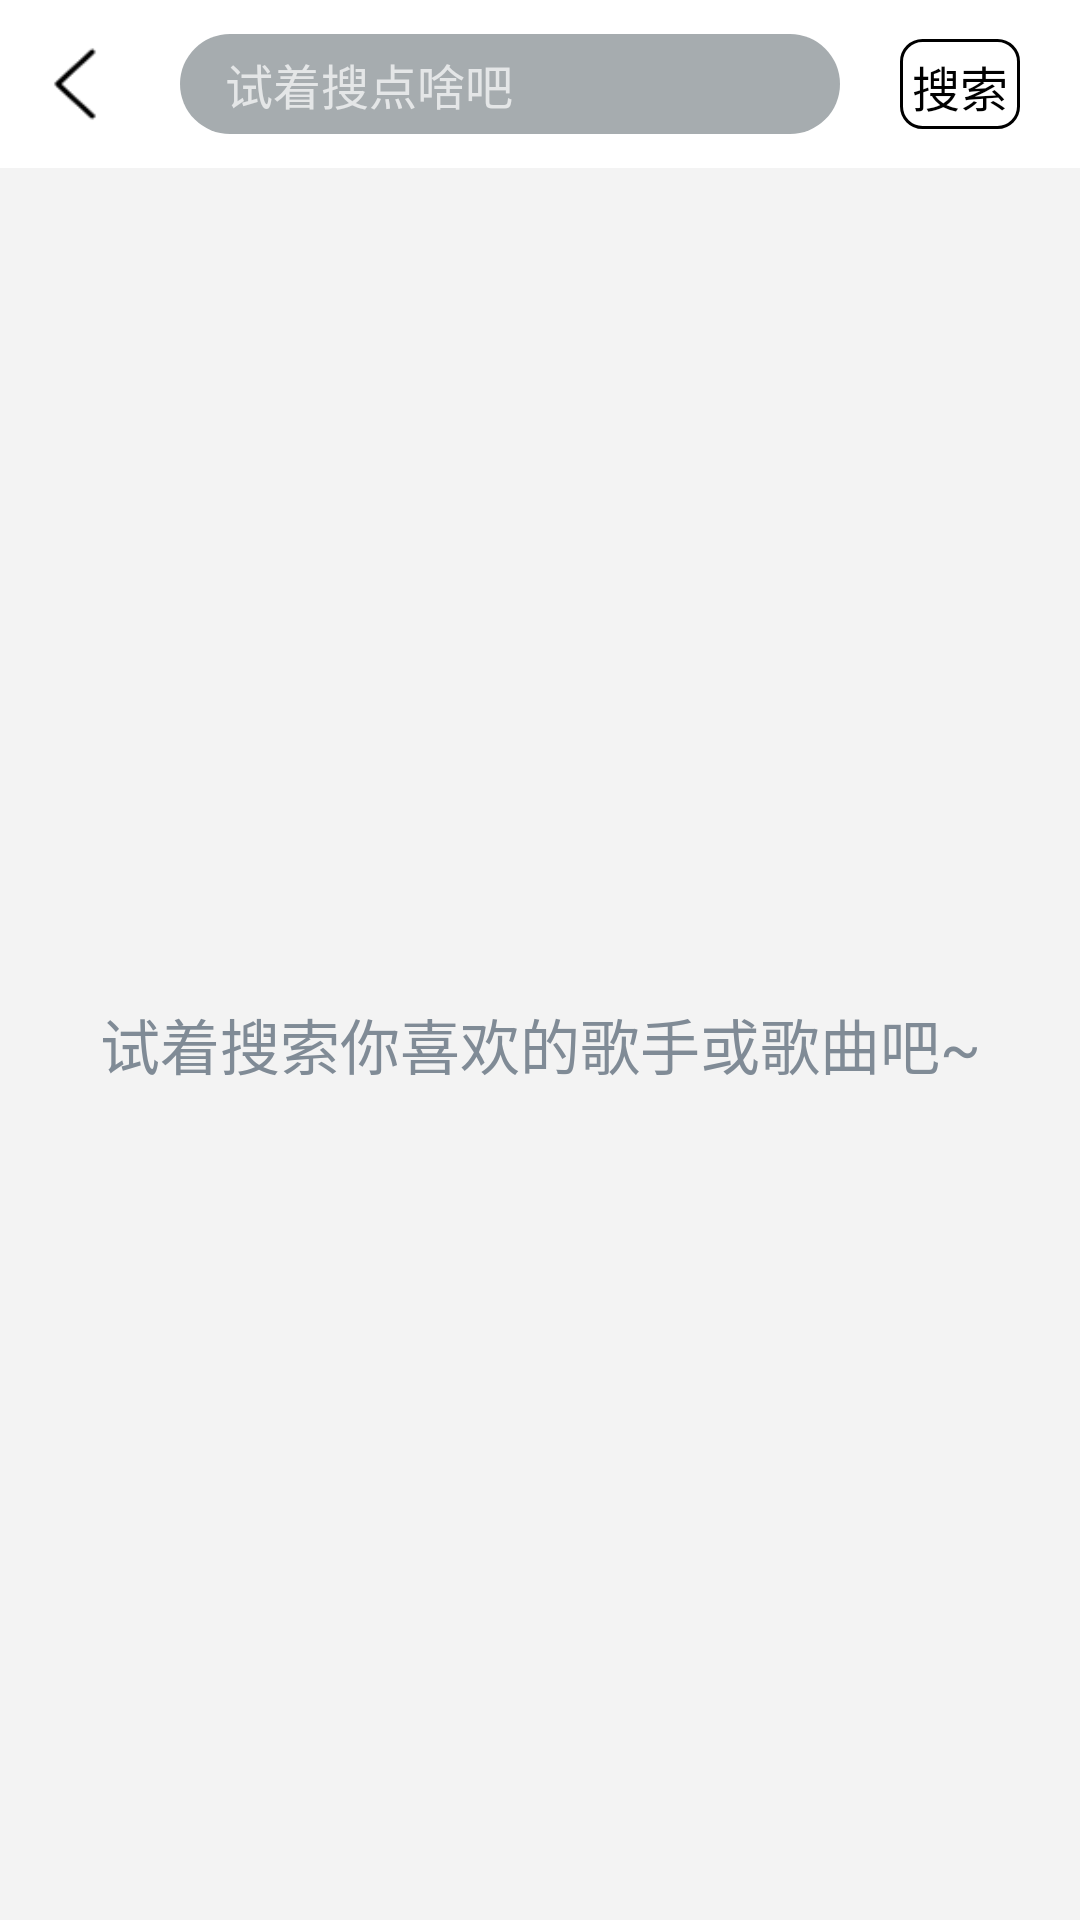

Icons on this 1080px×1920px Android screen, each with its box as rect(x1, y1, x2, y2):
back: rect(54, 48, 96, 120)
